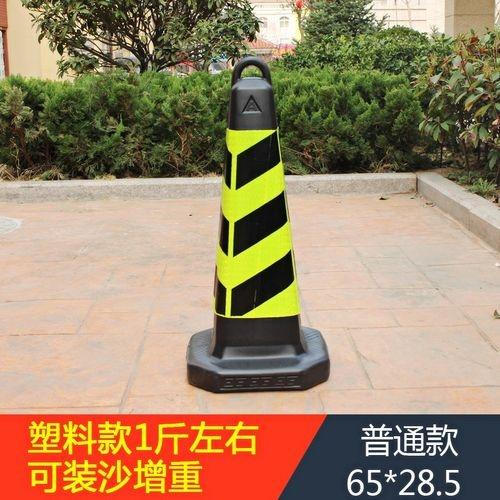cone_barrel: (181, 63, 331, 387)
